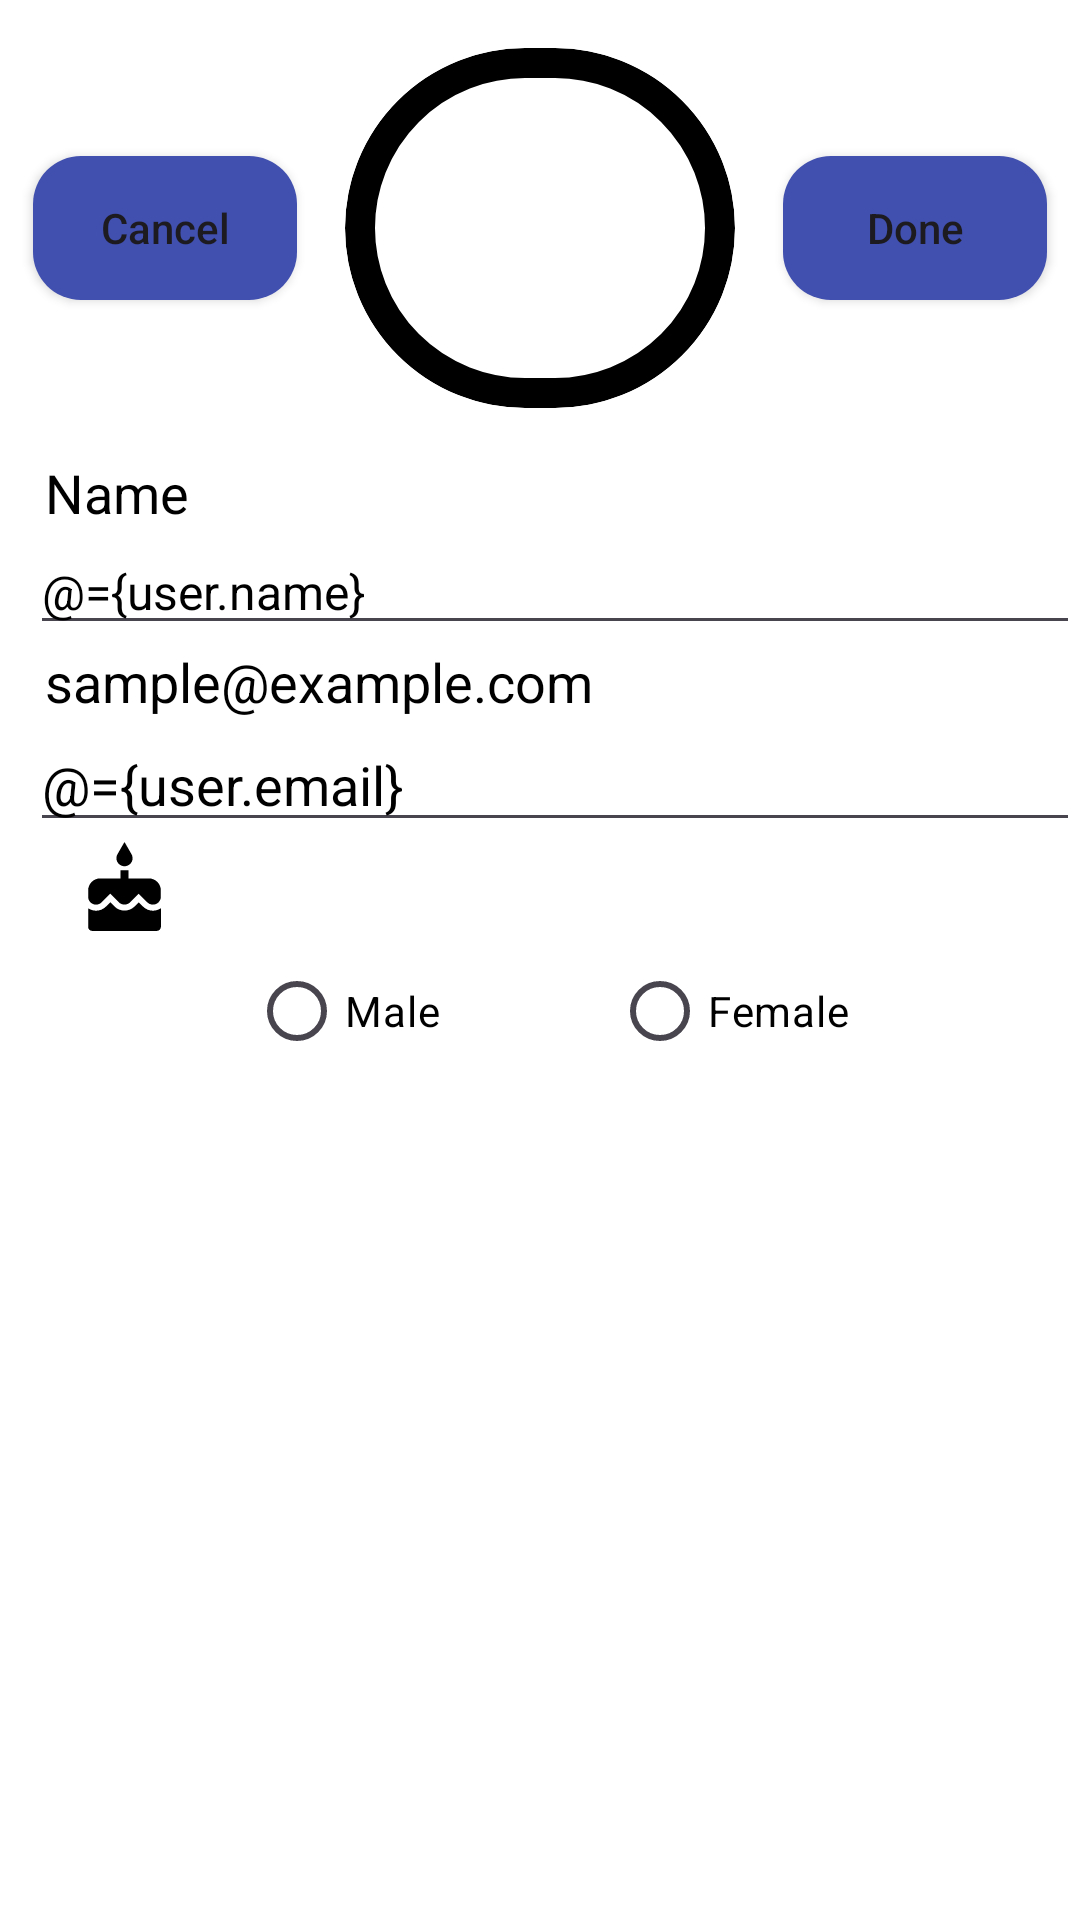

Named icons in this screenshot (1080 × 1920) and their bounding boxes, detection(x1, y1, x2, y2):
cake: detection(88, 842, 161, 931)
